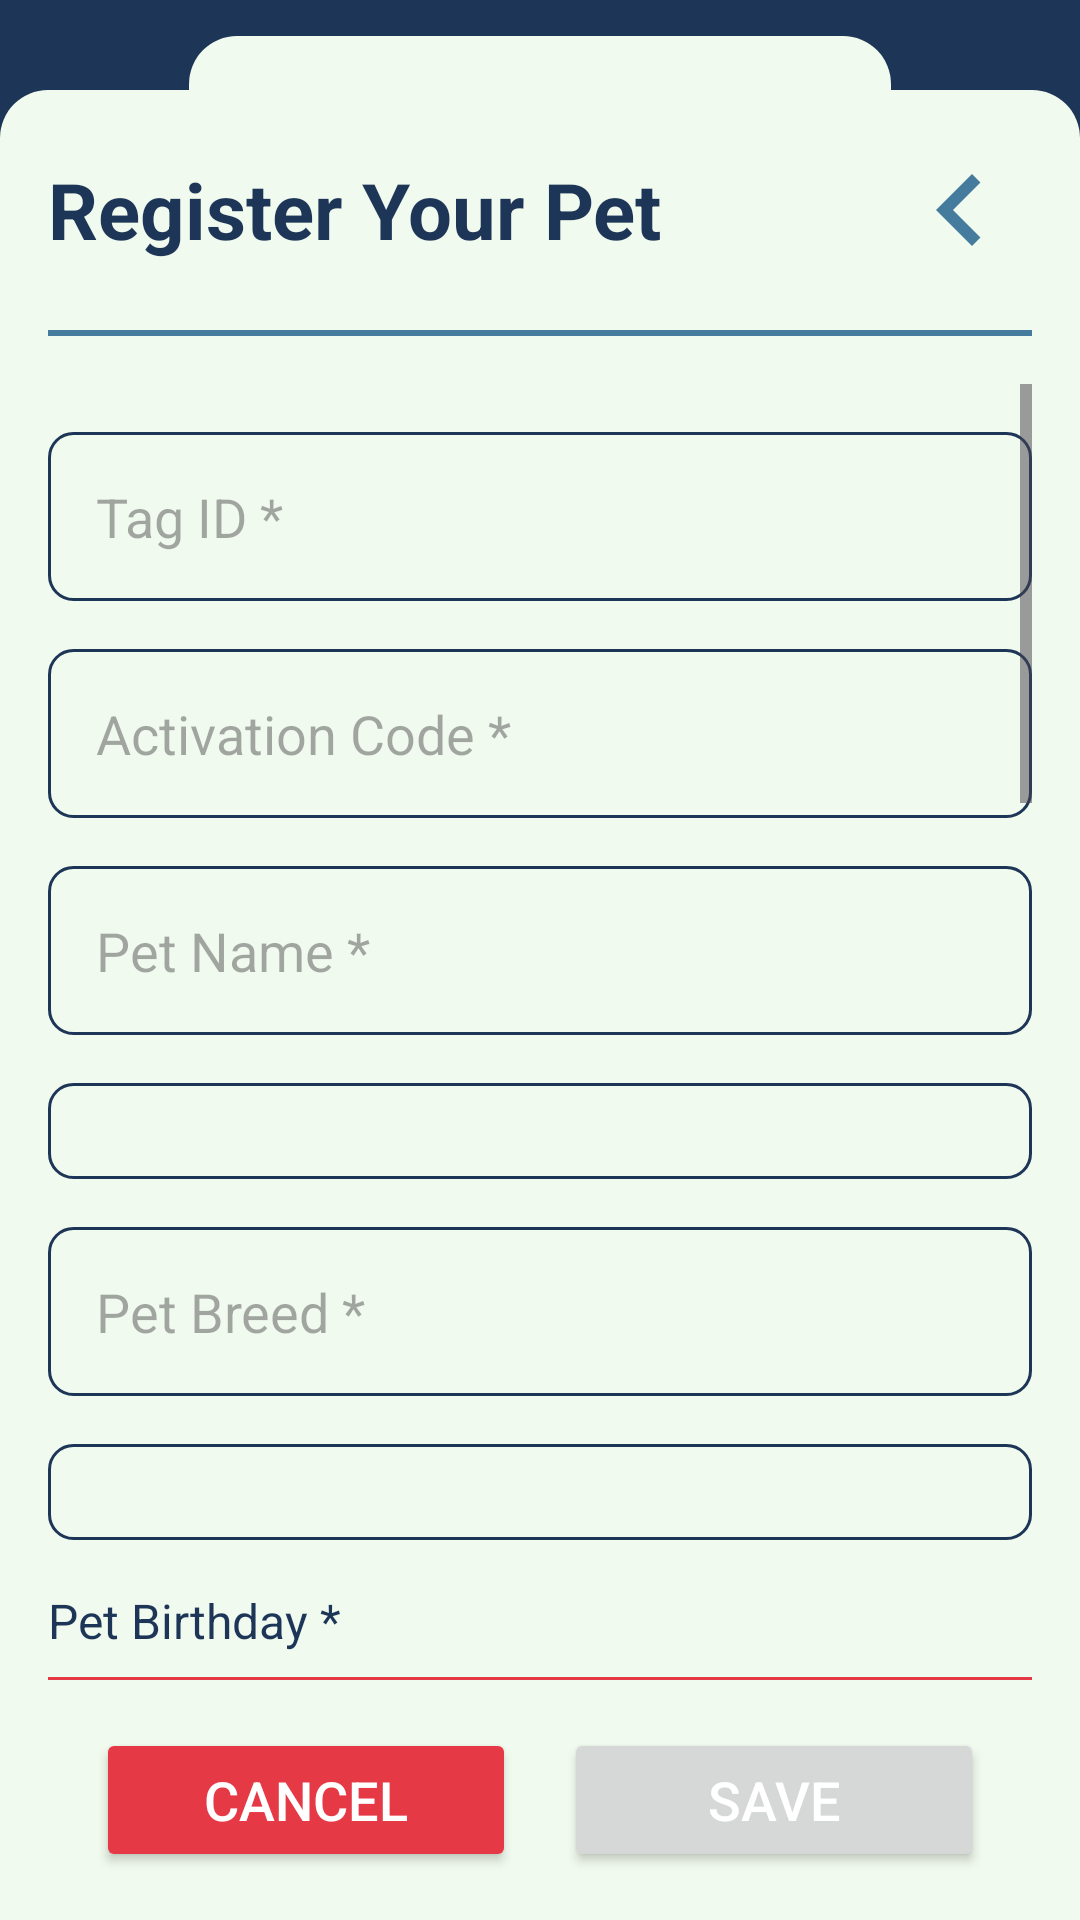

Icons on this 1080x1920 Android screen, each with the point to tap as (x=x, y=y):
Chevron Left: (x=958, y=210)
